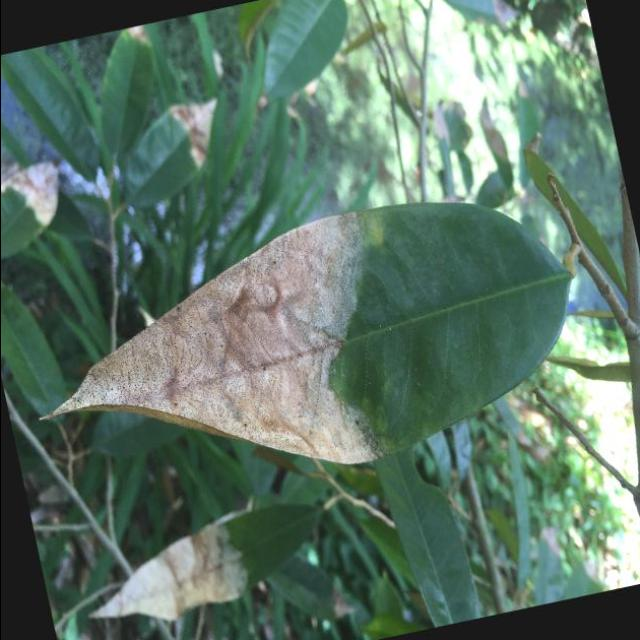Leaf Blight: (0, 156, 616, 538)
